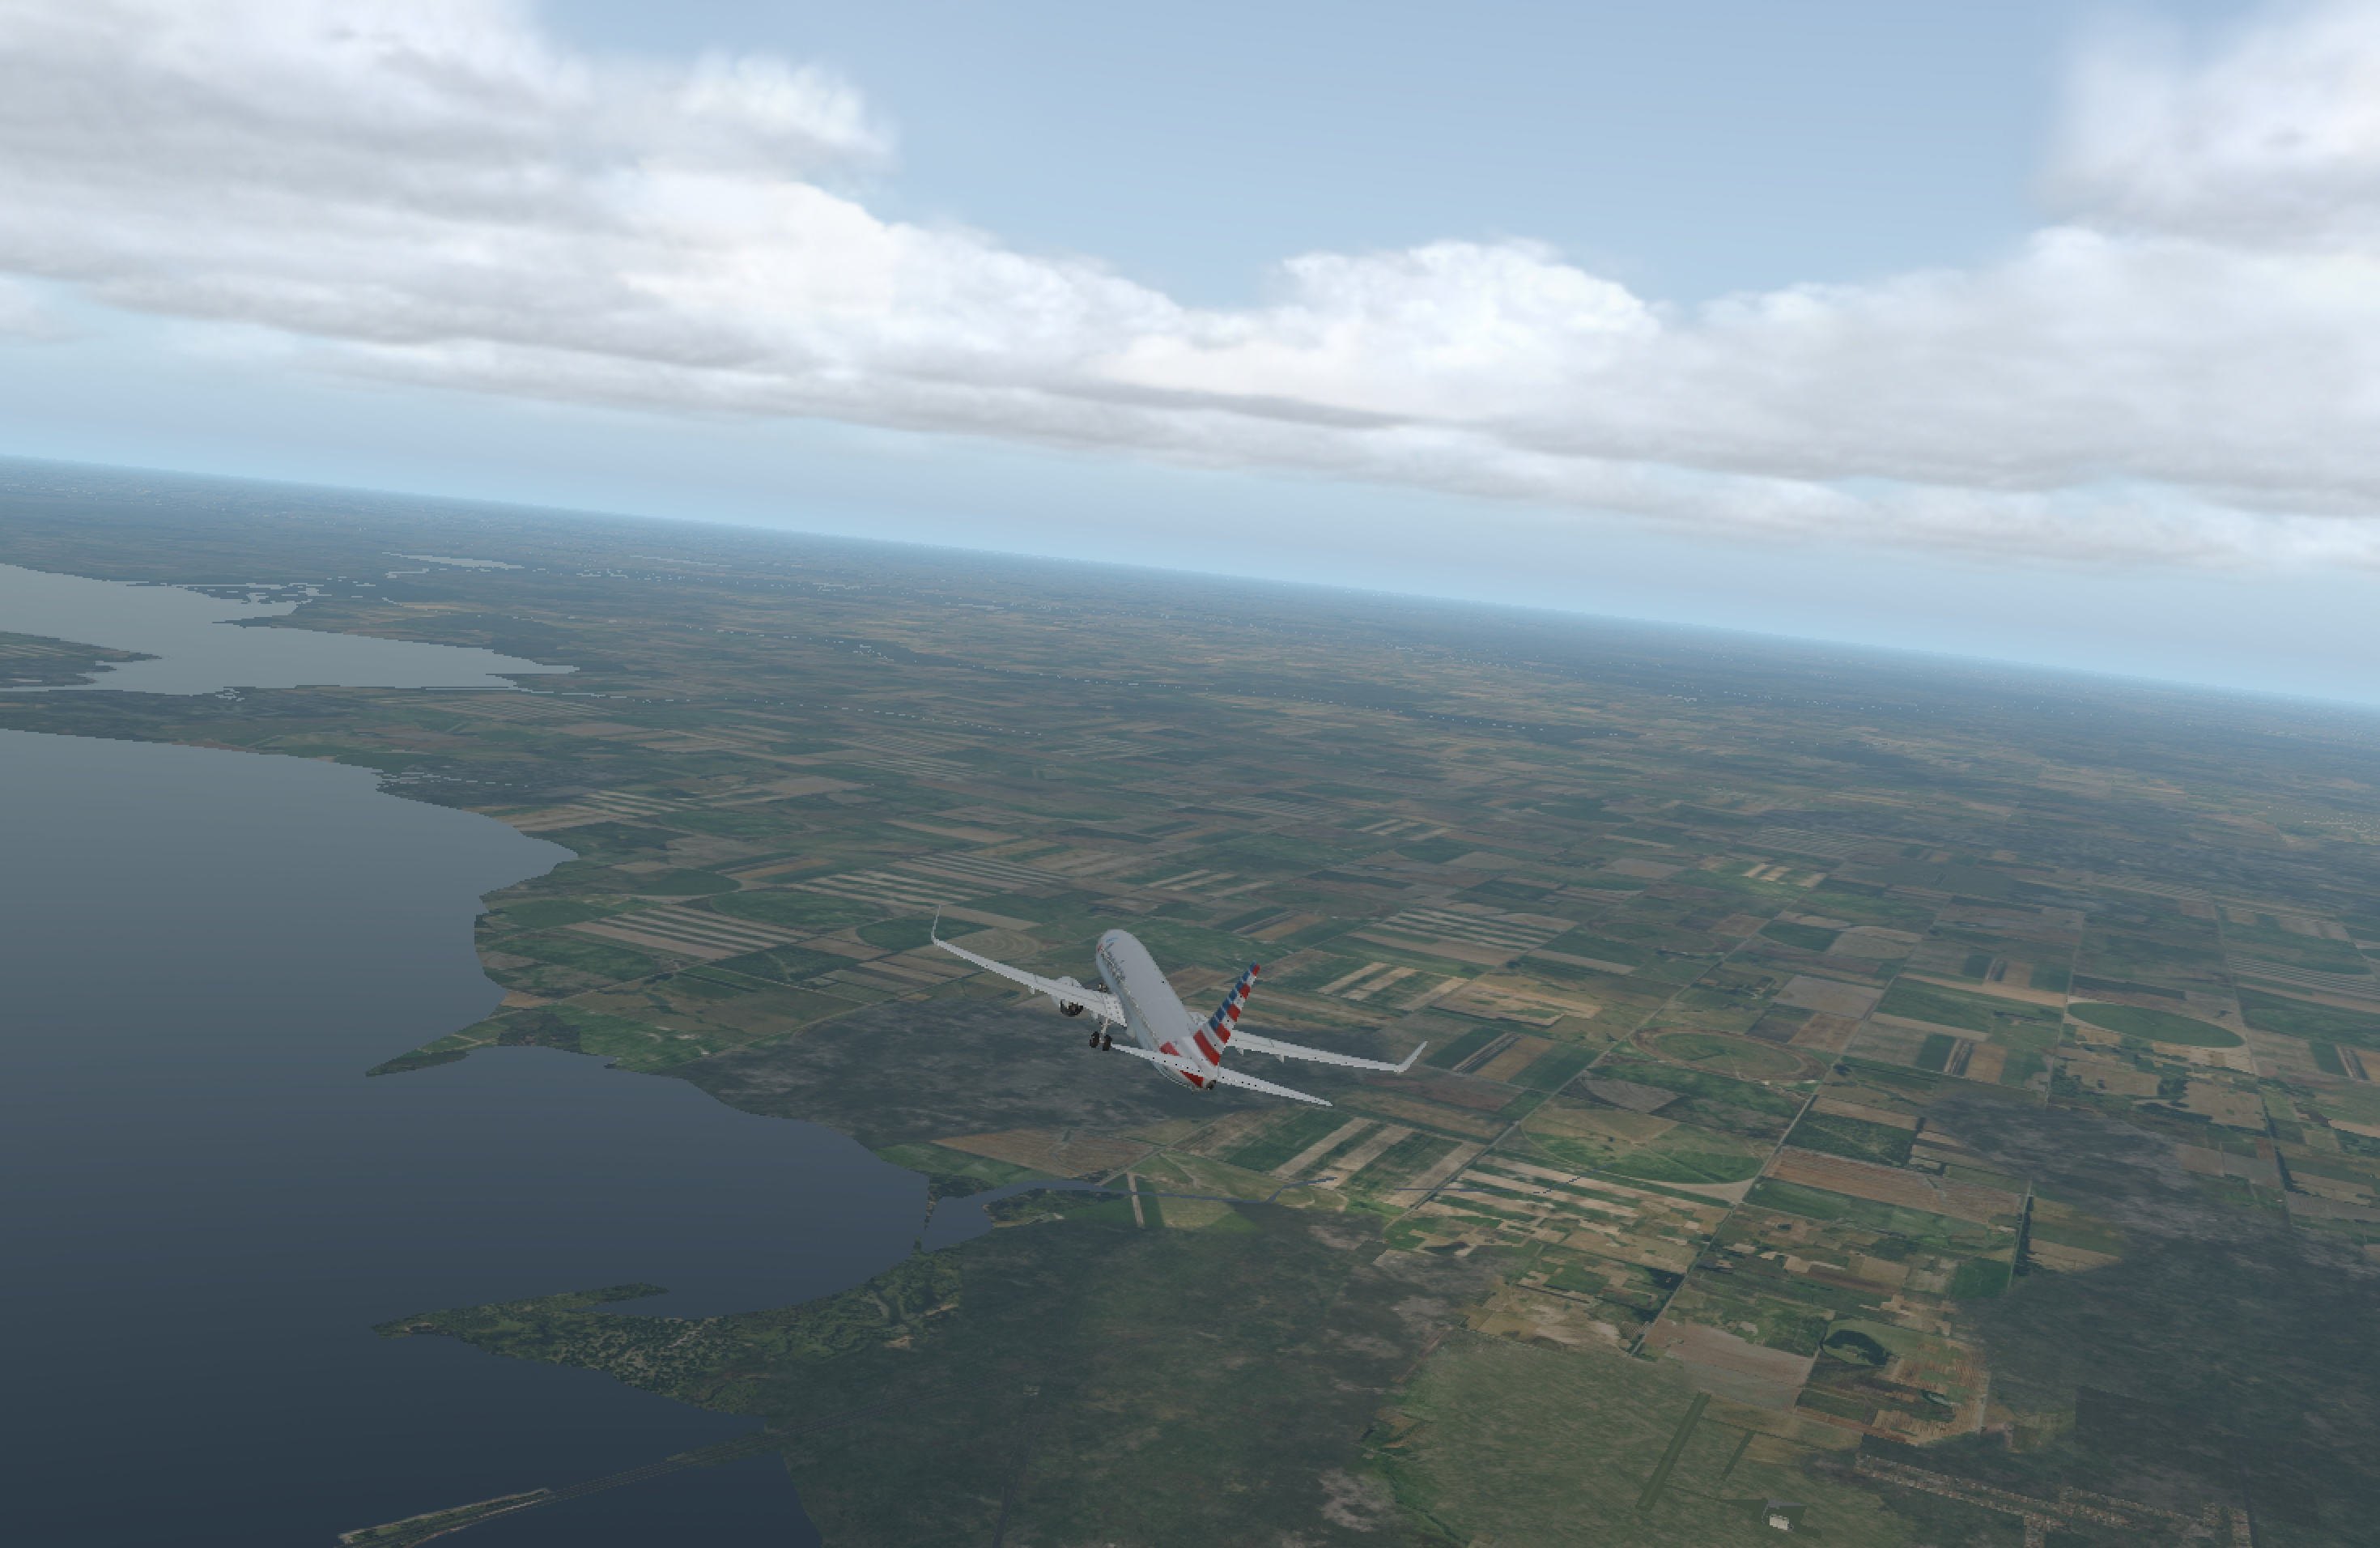aircraft: (867, 908, 1426, 1118)
